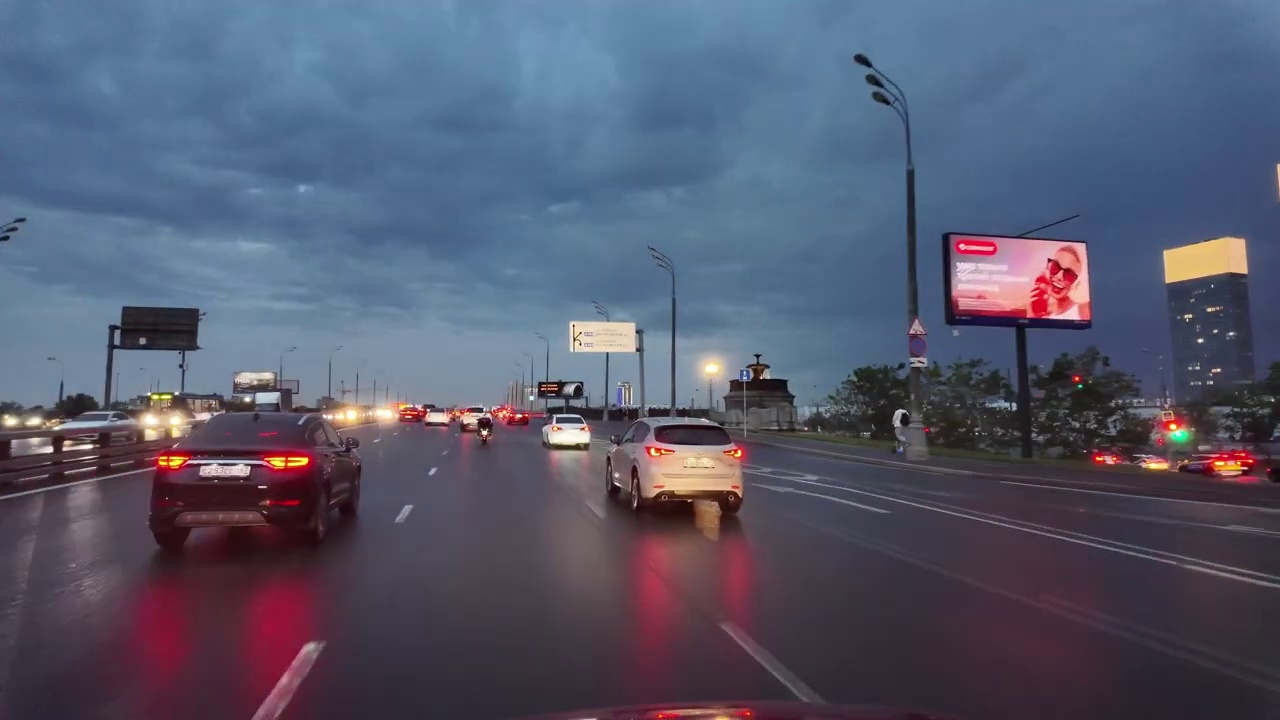acesa: (698, 355, 724, 381)
apagada: (849, 51, 893, 110), (847, 50, 887, 93), (1, 213, 31, 243), (642, 244, 666, 268)
